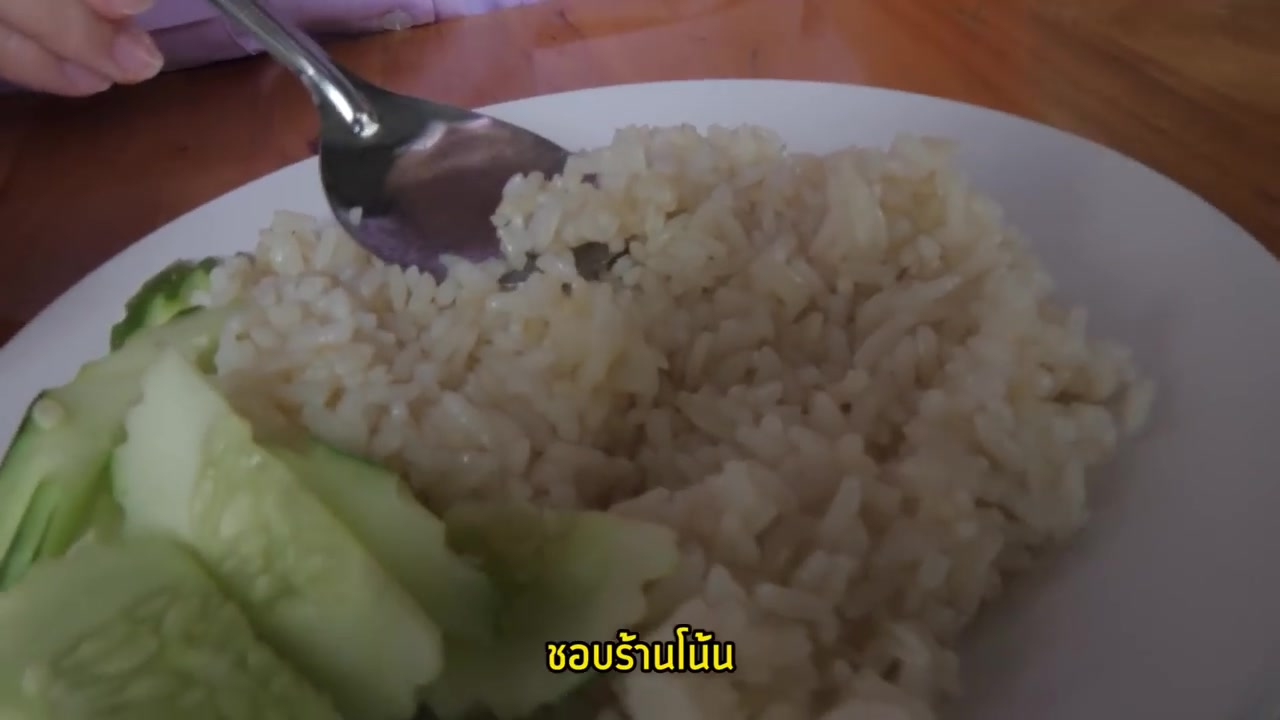text-label: (542, 620, 742, 675)
